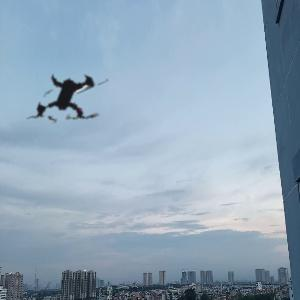drone: (4, 37, 132, 165)
